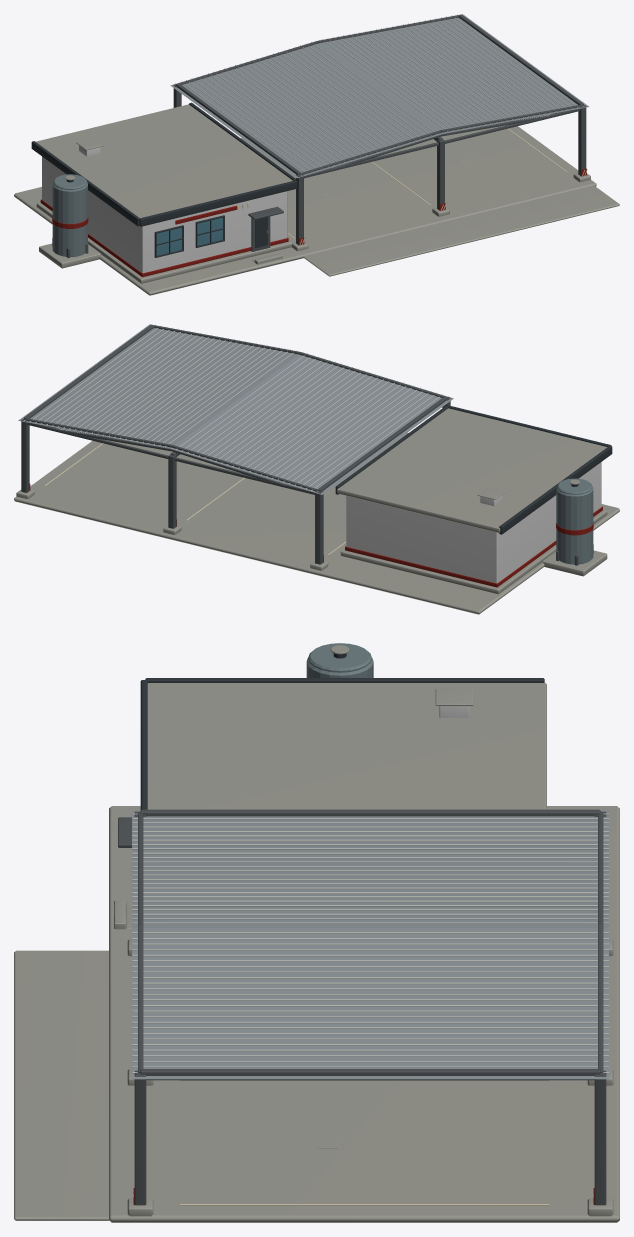
File: earthworks_facility.obj
3 renders of one model, top to bottom at view 1: azimuth 30°, elevation 25°; view 2: azimuth 150°, elevation 25°; view 3: azimuth 270°, elevation 25°, orthographic. The views are drawn at different scales.
Parts seen in each view (by area): view 1: foundation_slab, canopy_roof_left, canopy_roof_right, dispatch_office_roof, front_entry_apron, dispatch_office_main_shell, decorative_tank_body, office_plinth, office_roof_edge_front, front_truss_bottom, office_roof_edge_left, office_base_red_trim (+13 smaller); view 2: foundation_slab, canopy_roof_left, dispatch_office_roof, canopy_roof_right, dispatch_office_main_shell, decorative_tank_body, office_plinth, back_truss_bottom, office_roof_edge_left, office_base_red_trim, canopy_longitudinal_rail_1, canopy_longitudinal_rail_3 (+11 smaller); view 3: foundation_slab, canopy_roof_right, dispatch_office_roof, canopy_roof_left, front_entry_apron, canopy_longitudinal_rail_3, canopy_longitudinal_rail_1, office_roof_edge_left, canopy_back_post_3, canopy_front_post_3, roof_left_corrugation_07, roof_left_corrugation_10 (+52 smaller).
Boxes of the visible parts, <box> form: foundation_slab: <box>14,125,596,295</box>; canopy_roof_left: <box>170,41,442,178</box>; canopy_roof_right: <box>320,14,588,133</box>; dispatch_office_roof: <box>36,104,292,223</box>; front_entry_apron: <box>303,185,619,276</box>; dispatch_office_main_shell: <box>42,156,287,273</box>; decorative_tank_body: <box>52,182,87,256</box>; office_plinth: <box>36,202,292,283</box>; office_roof_edge_front: <box>139,180,296,226</box>; front_truss_bottom: <box>304,109,580,178</box>; office_roof_edge_left: <box>31,141,139,226</box>; office_base_red_trim: <box>40,199,288,277</box>; foundation_slab: <box>14,439,619,614</box>; canopy_roof_left: <box>170,352,453,494</box>; dispatch_office_roof: <box>337,408,607,532</box>; canopy_roof_right: <box>18,324,298,448</box>; dispatch_office_main_shell: <box>346,462,601,583</box>; decorative_tank_body: <box>556,486,593,564</box>; office_plinth: <box>340,509,607,594</box>; back_truss_bottom: <box>27,423,314,494</box>; office_roof_edge_left: <box>499,446,612,534</box>; office_base_red_trim: <box>345,506,602,587</box>; canopy_longitudinal_rail_1: <box>318,396,448,491</box>; canopy_longitudinal_rail_3: <box>24,324,153,419</box>; foundation_slab: <box>109,806,619,1222</box>; canopy_roof_right: <box>132,928,608,1079</box>; dispatch_office_roof: <box>147,682,546,809</box>; canopy_roof_left: <box>132,810,608,928</box>; front_entry_apron: <box>14,950,109,1220</box>; canopy_longitudinal_rail_3: <box>140,1069,600,1080</box>; canopy_longitudinal_rail_1: <box>140,809,600,816</box>; office_roof_edge_left: <box>145,678,544,682</box>; canopy_back_post_3: <box>594,1070,606,1205</box>; canopy_front_post_3: <box>134,1070,146,1205</box>; roof_left_corrugation_07: <box>132,839,608,841</box>; roof_left_corrugation_10: <box>132,852,608,854</box>.
Size of the model in its own units: 43.35 by 7.39 by 24.9.
